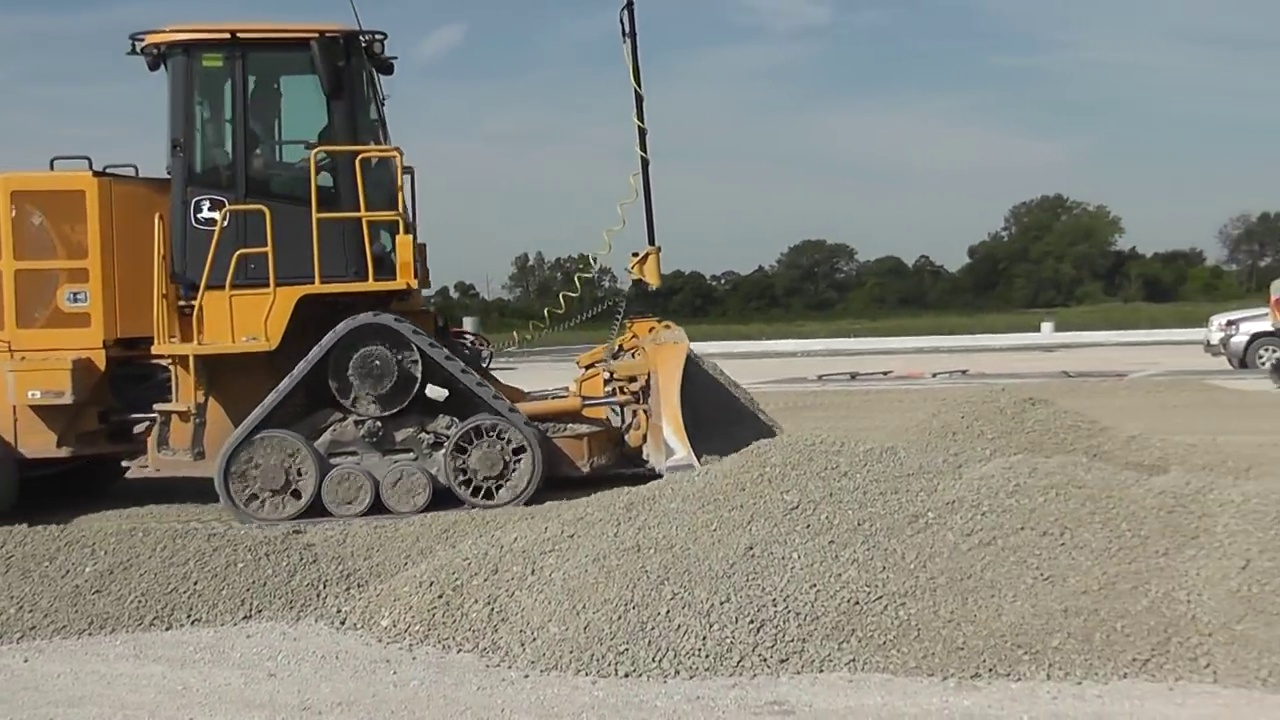bulldozer: (1, 20, 779, 519)
car: (1196, 294, 1280, 362)
